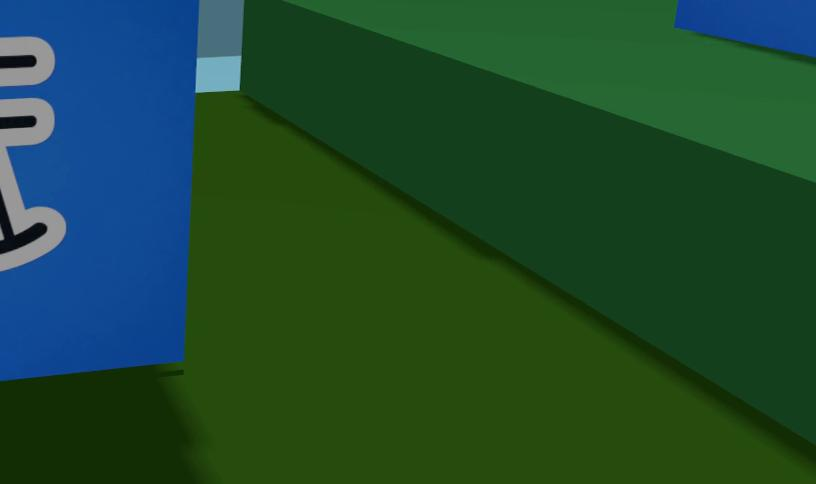KFS_REAL: (0, 0, 197, 380), (0, 37, 65, 271), (676, 0, 815, 56)
